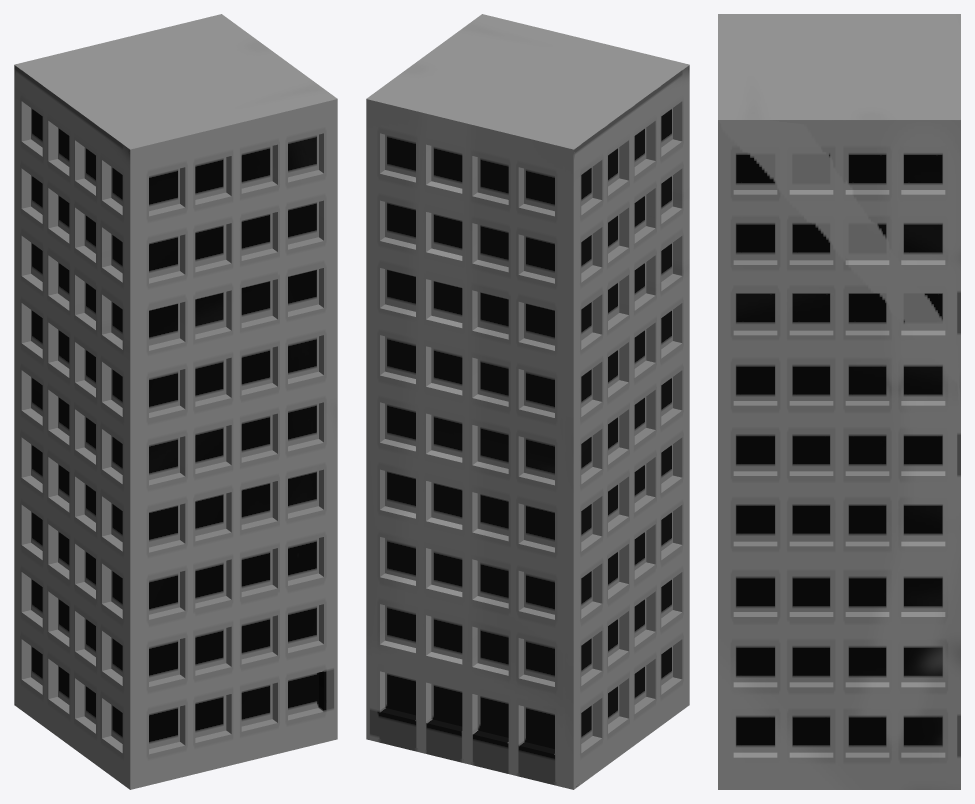
Rendered from building.glb.
The picture shows the model from 3 angles, left to right: view 1: azimuth 30°, elevation 25°; view 2: azimuth 150°, elevation 25°; view 3: azimuth 270°, elevation 25°; orthographic projection. The views are drawn at different scales.
Parts seen in each view (by area): view 1: Cube; view 2: Cube; view 3: Cube.
Part boxes in pixels (bbox=[...]): Cube: bbox=[14, 14, 337, 789]; Cube: bbox=[366, 14, 689, 789]; Cube: bbox=[718, 14, 960, 789].
Size of the model in its own units: 2.33 by 6.86 by 2.25.
Materials: 1 (1 with a texture image).
